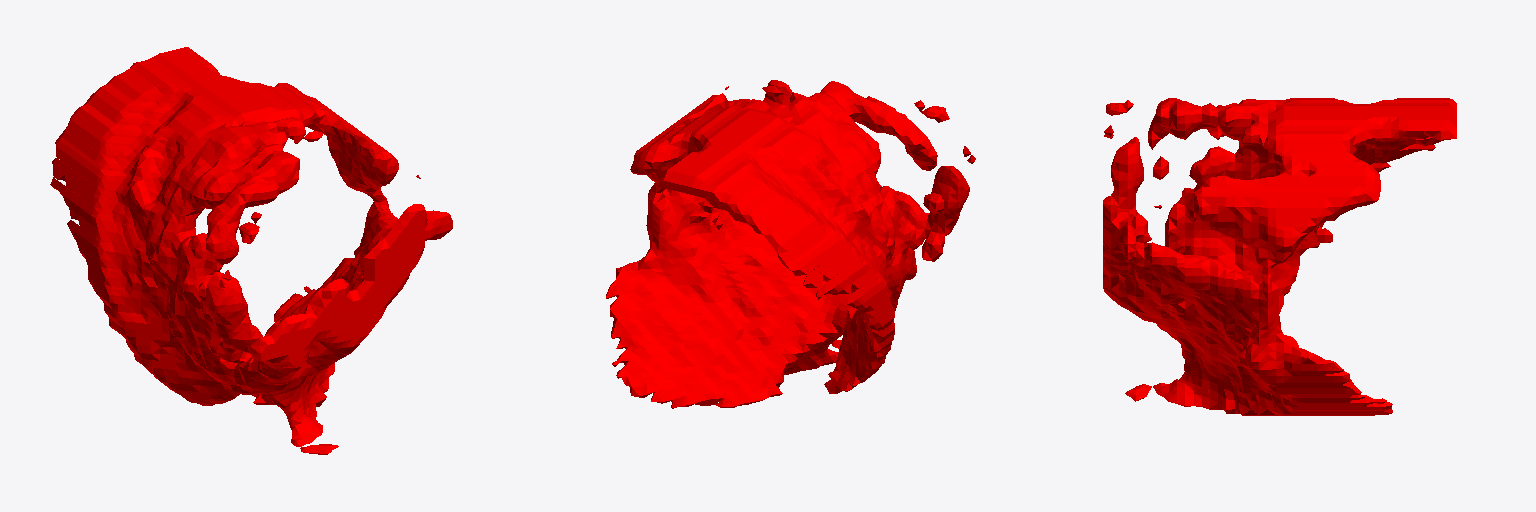
The model's file is B939XXXX-1_valve_12.obj.
The picture shows the model from 3 angles: view 1: azimuth 30°, elevation 25°; view 2: azimuth 150°, elevation 25°; view 3: azimuth 270°, elevation 25°; orthographic projection.
Visible parts, largest first — view 1: 12_valve; view 2: 12_valve; view 3: 12_valve.
Boxes of the visible parts, x1,y1,x2,y2 form: 12_valve: [50, 47, 452, 454]; 12_valve: [606, 80, 975, 408]; 12_valve: [1103, 98, 1456, 415].
Bounding box in the file's own units: 76.96 × 76.97 × 85.95.